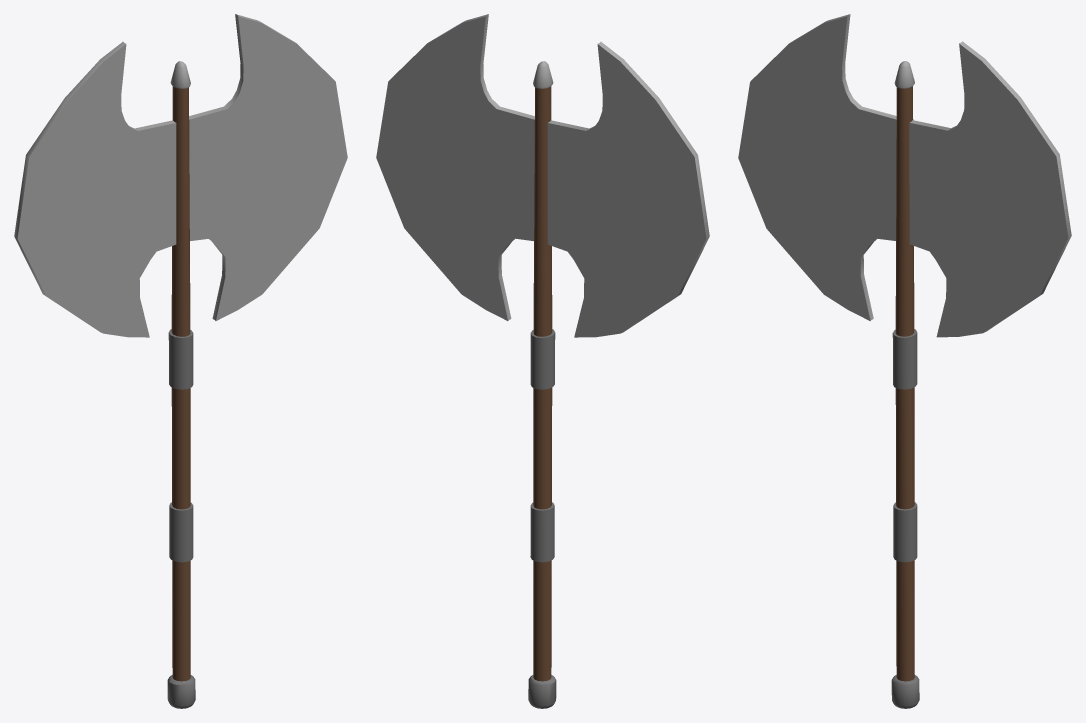
File: Battle Axe_3.fbx
The picture shows the model from 3 angles, left to right: view 1: azimuth 30°, elevation 25°; view 2: azimuth 150°, elevation 25°; view 3: azimuth 330°, elevation 25°; orthographic projection.
Parts seen in each view (by area): view 1: Battle Axe_3; view 2: Battle Axe_3; view 3: Battle Axe_3.
Boxes of the visible parts, bbox=[...] form: Battle Axe_3: bbox=[14, 14, 347, 708]; Battle Axe_3: bbox=[376, 14, 709, 708]; Battle Axe_3: bbox=[738, 14, 1071, 708].
Bounding box in the file's own units: 0.2248 × 0.4377 × 0.0162.
